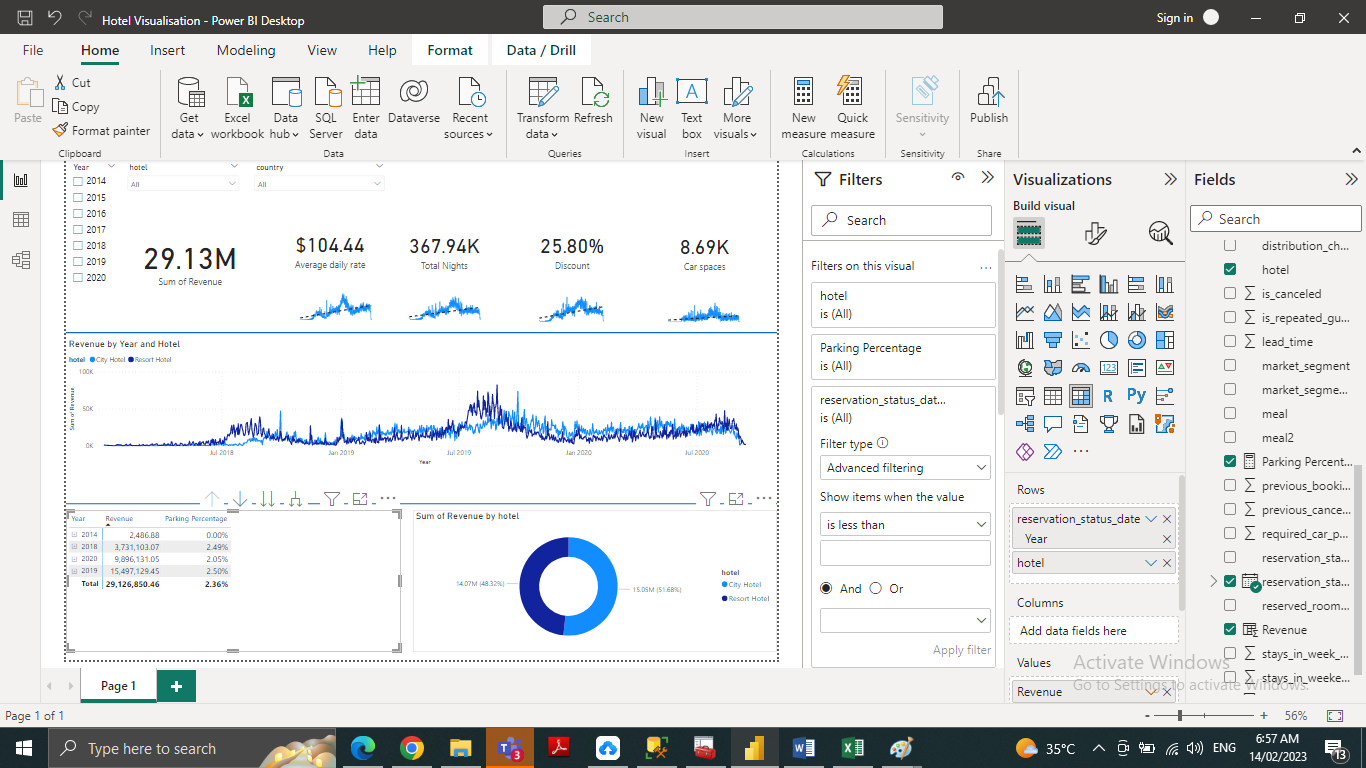

What the dashboard file says about the page in this screenshot:
{"tool":"powerbi","page":{"name":"Page 1","canvas":[1280,900],"ordinal":0},"visuals":[{"type":"shape","box":[0,586.2,1280,63.8],"z":0},{"type":"shape","box":[0,235.2,1280,149.5],"z":1000},{"type":"card","fields":{"Values":["Sum(Query1.Revenue)"]},"box":[100.8,84.6,244.8,192.6],"z":2000},{"type":"card","fields":{"Values":["Avg(Query1.adr)"]},"box":[347.4,99,255.6,120.6],"z":3000},{"type":"card","fields":{"Values":["Query1.Total Nights"]},"box":[583.2,104.4,196.2,115.2],"z":4000},{"type":"card","fields":{"Values":["Avg(Query1.Discount)"]},"box":[819,109.8,183.6,104.4],"z":5000},{"type":"lineChart","title":"Revenue by Year and Hotel","fields":{"Y":["Sum(Query1.Revenue)"],"Category":["Query1.reservation_status_date.Variation.Date Hierarchy.Year","Query1.reservation_status_date.Variation.Date Hierarchy.Quarter","Query1.reservation_status_date.Variation.Date Hierarchy.Month","Query1.reservation_status_date.Variation.Date Hierarchy.Day"],"Series":["Query1.hotel"]},"box":[0,320.8,1249.8,233.5],"z":6000},{"type":"slicer","fields":{"Values":["Query1.country"]},"box":[329.4,0,253.8,61.2],"z":7000},{"type":"slicer","fields":{"Values":["Query1.hotel"]},"box":[100.8,0,221.4,61.2],"z":8000},{"type":"lineChart","fields":{"Category":["Query1.reservation_status_date.Variation.Date Hierarchy.Year","Query1.reservation_status_date.Variation.Date Hierarchy.Quarter","Query1.reservation_status_date.Variation.Date Hierarchy.Month","Query1.reservation_status_date.Variation.Date Hierarchy.Day"],"Y":["Sum(Query1.adr)"]},"box":[406.8,219.6,158.4,73.8],"z":8001},{"type":"lineChart","fields":{"Category":["Query1.reservation_status_date.Variation.Date Hierarchy.Year","Query1.reservation_status_date.Variation.Date Hierarchy.Quarter","Query1.reservation_status_date.Variation.Date Hierarchy.Month","Query1.reservation_status_date.Variation.Date Hierarchy.Day"],"Y":["Sum(Query1.Discount)"]},"box":[837,228.6,145.8,68.4],"z":8002},{"type":"lineChart","fields":{"Category":["Query1.reservation_status_date.Variation.Date Hierarchy.Year","Query1.reservation_status_date.Variation.Date Hierarchy.Quarter","Query1.reservation_status_date.Variation.Date Hierarchy.Month","Query1.reservation_status_date.Variation.Date Hierarchy.Day"],"Y":["Query1.Total Nights"]},"box":[603,219.6,158.4,73.8],"z":8003},{"type":"card","title":"Car spaces","fields":{"Values":["Sum(Query1.required_car_parking_spaces)"]},"box":[1071,113.4,156.6,100.8],"z":8004},{"type":"lineChart","fields":{"Category":["Query1.reservation_status_date.Variation.Date Hierarchy.Year","Query1.reservation_status_date.Variation.Date Hierarchy.Quarter","Query1.reservation_status_date.Variation.Date Hierarchy.Month","Query1.reservation_status_date.Variation.Date Hierarchy.Day"],"Y":["Sum(Query1.required_car_parking_spaces)"]},"box":[1069.2,230.4,158.4,66.6],"z":8005},{"type":"donutChart","fields":{"Category":["Query1.hotel"],"Y":["Sum(Query1.Revenue)"]},"box":[624.6,630,655.2,255.6],"z":8006},{"type":"pivotTable","fields":{"Rows":["Query1.reservation_status_date.Variation.Date Hierarchy.Year","Query1.hotel"],"Values":["Sum(Query1.Revenue)","Query1.Parking Percentage"]},"box":[50.4,630,631.8,255.6],"z":8007},{"type":"slicer","fields":{"Values":["Query1.reservation_status_date.Variation.Date Hierarchy.Year"]},"box":[0,0,100.8,237.6],"z":8008}]}

Visuals, with their boxes on the page's 1280x900 design canvas (x1, y1, x2, y2). These are canvas units, not pixel positions in the 1366x768 screenshot, which may show the page scaled, cropped or inside an application window:
shape: 0:586:1280:650
shape: 0:235:1280:385
card - Sum(Query1.Revenue): 101:85:346:277
card - Avg(Query1.adr): 347:99:603:220
card - Query1.Total Nights: 583:104:779:220
card - Avg(Query1.Discount): 819:110:1003:214
"Revenue by Year and Hotel" lineChart: 0:321:1250:554
slicer - Query1.country: 329:0:583:61
slicer - Query1.hotel: 101:0:322:61
lineChart - Query1.reservation_status_date.Variation.Date Hierarchy.Year x Query1.reservation_status_date.Variation.Date Hierarchy.Quarter: 407:220:565:293
lineChart - Query1.reservation_status_date.Variation.Date Hierarchy.Year x Query1.reservation_status_date.Variation.Date Hierarchy.Quarter: 837:229:983:297
lineChart - Query1.reservation_status_date.Variation.Date Hierarchy.Year x Query1.reservation_status_date.Variation.Date Hierarchy.Quarter: 603:220:761:293
"Car spaces" card: 1071:113:1228:214
lineChart - Query1.reservation_status_date.Variation.Date Hierarchy.Year x Query1.reservation_status_date.Variation.Date Hierarchy.Quarter: 1069:230:1228:297
donutChart - Query1.hotel x Sum(Query1.Revenue): 625:630:1280:886
pivotTable - Query1.reservation_status_date.Variation.Date Hierarchy.Year x Query1.hotel: 50:630:682:886
slicer - Query1.reservation_status_date.Variation.Date Hierarchy.Year: 0:0:101:238
